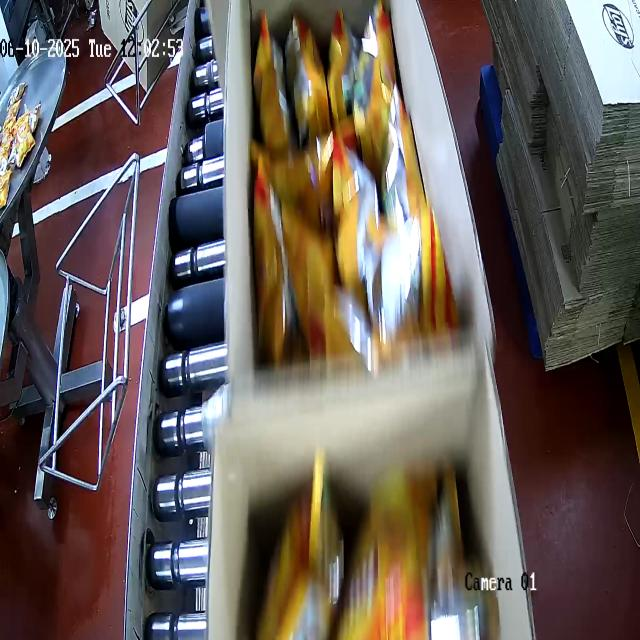FRENCH_CHEESE: (259, 20, 417, 377), (256, 480, 499, 640)
